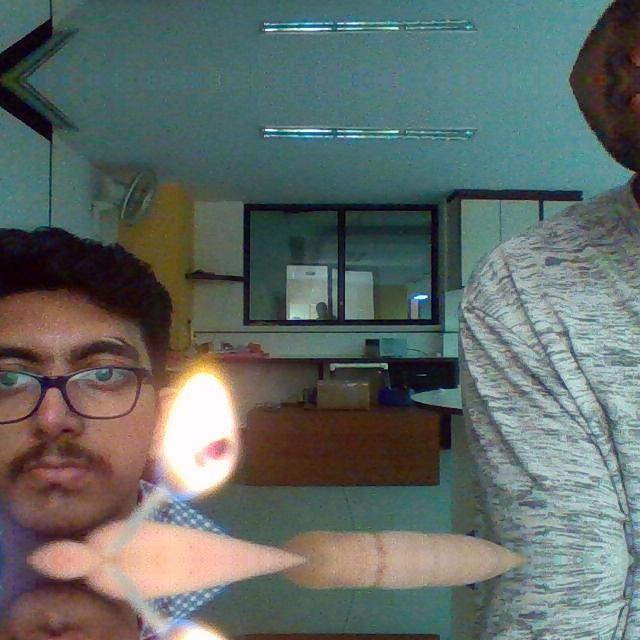smoke: (156, 366, 242, 496), (155, 610, 254, 640)
